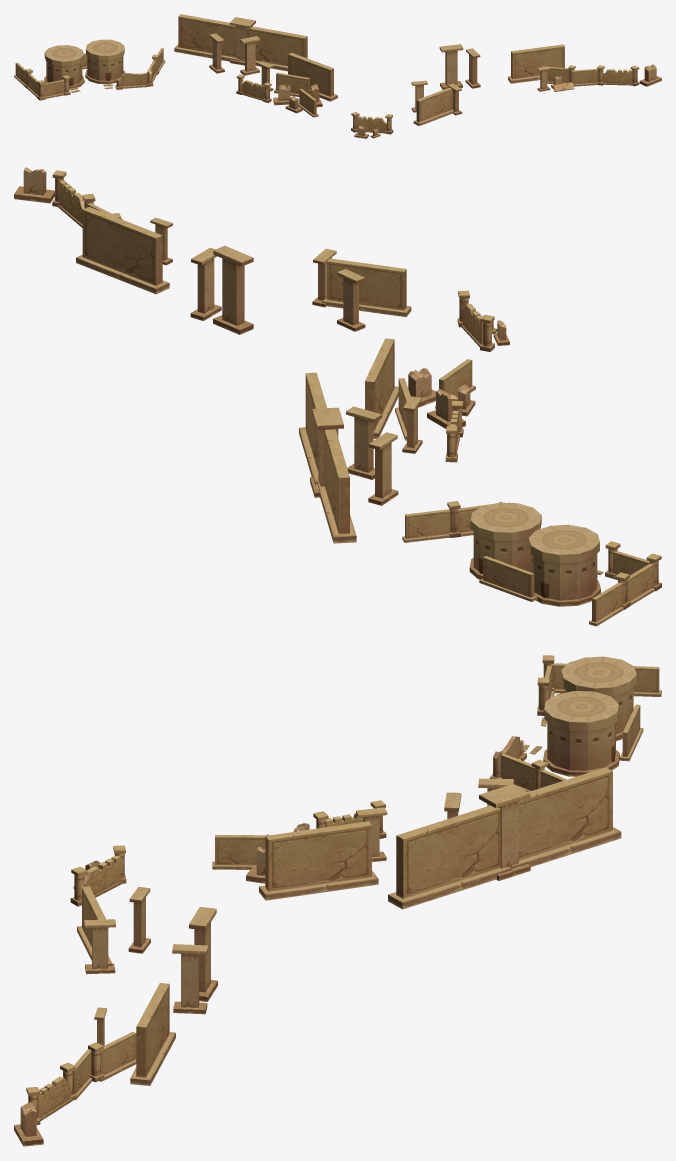
The model's file is qiangmian_02.fbx.
The picture shows the model from 3 angles, top to bottom: view 1: azimuth 30°, elevation 25°; view 2: azimuth 150°, elevation 25°; view 3: azimuth 270°, elevation 25°; orthographic projection. The views are drawn at different scales.
Visible parts, largest first — view 1: qiangmian_02; view 2: qiangmian_02; view 3: qiangmian_02.
Boxes of the visible parts, x1,y1,x2,y2 form: qiangmian_02: (14, 14, 661, 138); qiangmian_02: (14, 167, 661, 626); qiangmian_02: (14, 655, 661, 1146).
Bounding box in the file's own units: 12143 × 963 × 7265.
Materials: 1 (1 with a texture image).
